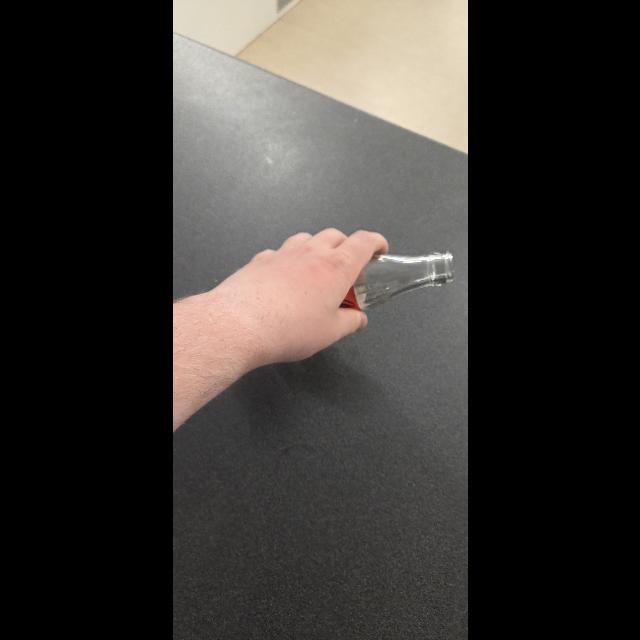Glass: (320, 247, 458, 313)
